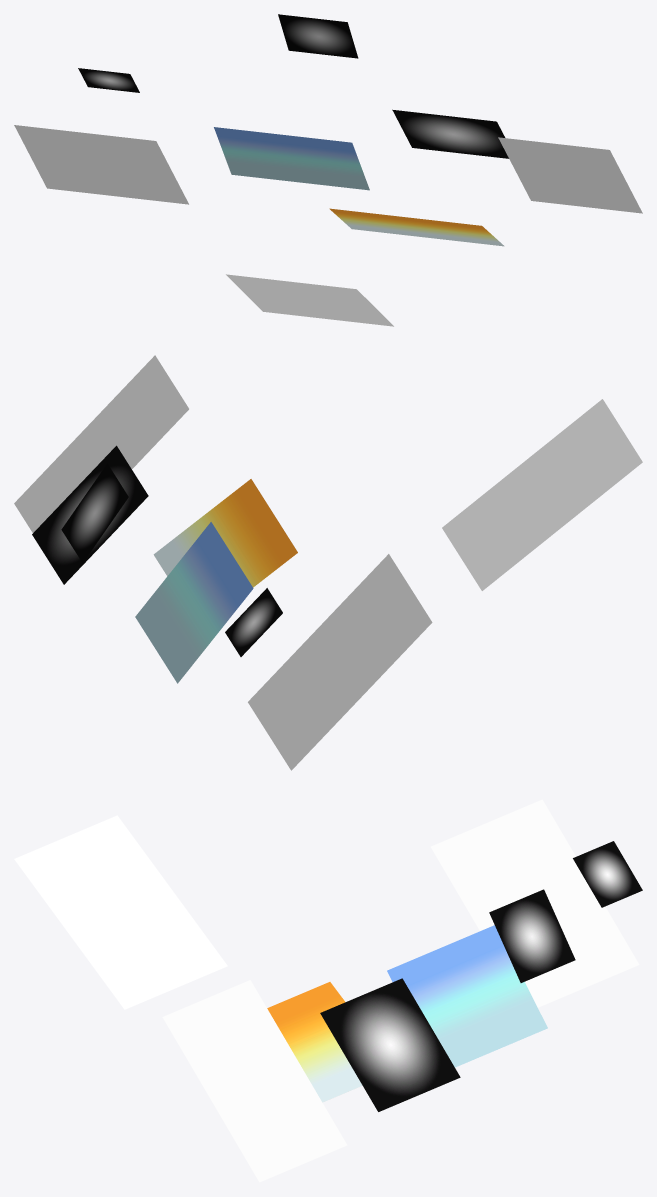
The model's file is BG planes.fbx.
The picture shows the model from 3 angles, top to bottom: view 1: azimuth 30°, elevation 25°; view 2: azimuth 150°, elevation 25°; view 3: azimuth 270°, elevation 25°; orthographic projection. The views are drawn at different scales.
Visible parts, largest first — view 1: _CombinedBG planesChild_IntroCrows_BackgroundA_Mat, _CombinedBG planesChild_IntroCrows_BackgroundB_Mat, _CombinedBG planesChild_SpireSkyB_Mat, _CombinedBG planesChild_IntroCrows_LightFocus3_Mat, _CombinedBG planesChild_IntroCrowsTopBG_Mat, _CombinedBG planesChild_SpireSkyA_Mat, _CombinedBG planesChild_IntroCrows_LightFocus2_Mat; view 2: _CombinedBG planesChild_IntroCrows_BackgroundA_Mat, _CombinedBG planesChild_IntroCrowsTopBG_Mat, _CombinedBG planesChild_IntroCrows_BackgroundB_Mat, _CombinedBG planesChild_SpireSkyB_Mat, _CombinedBG planesChild_IntroCrows_LightFocus3_Mat, _CombinedBG planesChild_SpireSkyA_Mat, _CombinedBG planesChild_IntroCrows_LightFocus2_Mat; view 3: _CombinedBG planesChild_IntroCrowsTopBG_Mat, _CombinedBG planesChild_IntroCrows_BackgroundB_Mat, _CombinedBG planesChild_IntroCrows_BackgroundA_Mat, _CombinedBG planesChild_IntroCrows_LightFocus3_Mat, _CombinedBG planesChild_SpireSkyB_Mat, _CombinedBG planesChild_SpireSkyA_Mat, _CombinedBG planesChild_IntroCrows_LightFocus2_Mat.
Part boxes in pixels (x1=…): _CombinedBG planesChild_IntroCrows_BackgroundA_Mat: x1=14, y1=125, x2=188, y2=204; _CombinedBG planesChild_IntroCrows_BackgroundB_Mat: x1=498, y1=137, x2=642, y2=213; _CombinedBG planesChild_SpireSkyB_Mat: x1=214, y1=127, x2=369, y2=190; _CombinedBG planesChild_IntroCrows_LightFocus3_Mat: x1=278, y1=14, x2=508, y2=158; _CombinedBG planesChild_IntroCrowsTopBG_Mat: x1=226, y1=274, x2=393, y2=326; _CombinedBG planesChild_SpireSkyA_Mat: x1=329, y1=208, x2=504, y2=246; _CombinedBG planesChild_IntroCrows_LightFocus2_Mat: x1=78, y1=68, x2=139, y2=92; _CombinedBG planesChild_IntroCrows_BackgroundA_Mat: x1=248, y1=554, x2=432, y2=770; _CombinedBG planesChild_IntroCrowsTopBG_Mat: x1=442, y1=399, x2=642, y2=590; _CombinedBG planesChild_IntroCrows_BackgroundB_Mat: x1=14, y1=355, x2=188, y2=532; _CombinedBG planesChild_SpireSkyB_Mat: x1=135, y1=522, x2=253, y2=683; _CombinedBG planesChild_IntroCrows_LightFocus3_Mat: x1=32, y1=445, x2=148, y2=584; _CombinedBG planesChild_SpireSkyA_Mat: x1=153, y1=479, x2=297, y2=587; _CombinedBG planesChild_IntroCrows_LightFocus2_Mat: x1=225, y1=588, x2=282, y2=656; _CombinedBG planesChild_IntroCrowsTopBG_Mat: x1=14, y1=815, x2=227, y2=1009; _CombinedBG planesChild_IntroCrows_BackgroundB_Mat: x1=162, y1=980, x2=347, y2=1182; _CombinedBG planesChild_IntroCrows_BackgroundA_Mat: x1=431, y1=799, x2=639, y2=1007; _CombinedBG planesChild_IntroCrows_LightFocus3_Mat: x1=320, y1=889, x2=575, y2=1111; _CombinedBG planesChild_SpireSkyB_Mat: x1=387, y1=925, x2=547, y2=1067; _CombinedBG planesChild_SpireSkyA_Mat: x1=267, y1=982, x2=362, y2=1102; _CombinedBG planesChild_IntroCrows_LightFocus2_Mat: x1=573, y1=841, x2=642, y2=907.
Size of the model in its own units: 318 by 102 by 324.
7 materials, 4 textured.
